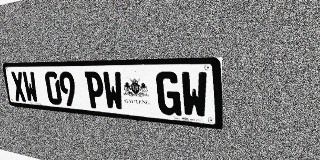0: (44, 72, 62, 105)
9: (58, 72, 78, 107)
G: (156, 71, 182, 116)
P: (84, 71, 106, 109)
W: (180, 71, 208, 119), (102, 71, 124, 111), (22, 72, 39, 103)
X: (10, 72, 27, 102)
